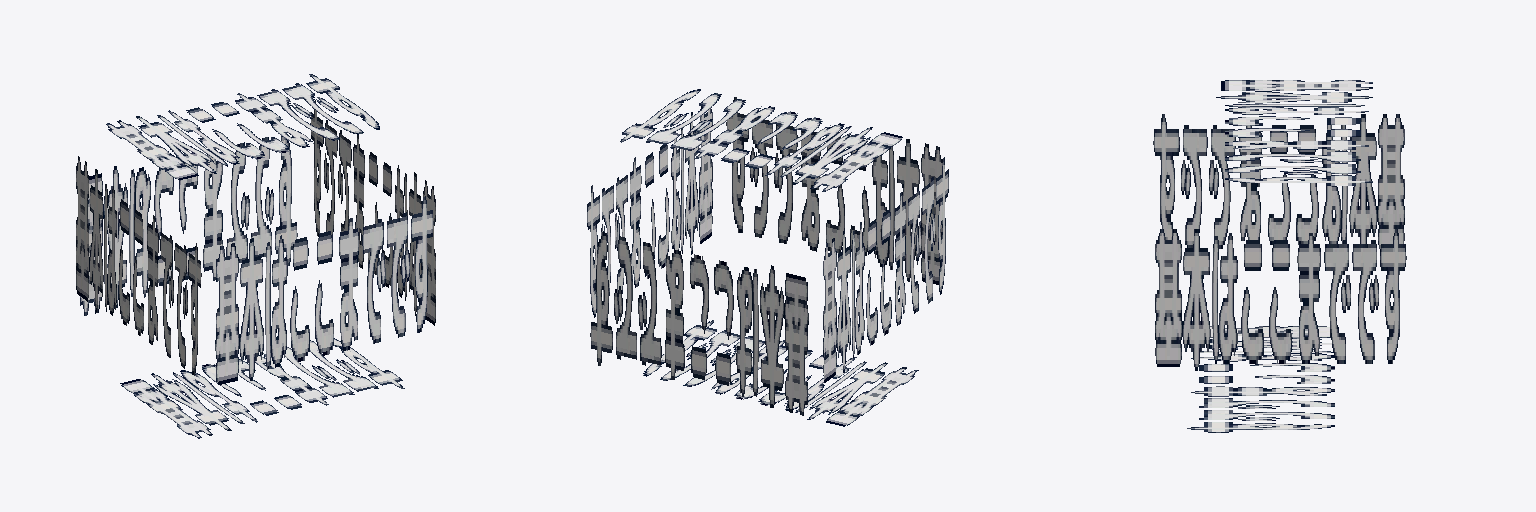
The picture shows the model from 3 angles: view 1: azimuth 30°, elevation 25°; view 2: azimuth 150°, elevation 25°; view 3: azimuth 270°, elevation 25°; orthographic projection.
Parts seen in each view (by area): view 1: BasicLogo; view 2: BasicLogo; view 3: BasicLogo.
Boxes of the visible parts, <box> form: BasicLogo: <box>76,74,435,438</box>; BasicLogo: <box>587,89,948,426</box>; BasicLogo: <box>1153,80,1406,432</box>.
Size of the model in its own units: 2 by 2 by 2.
1 materials, 1 textured.